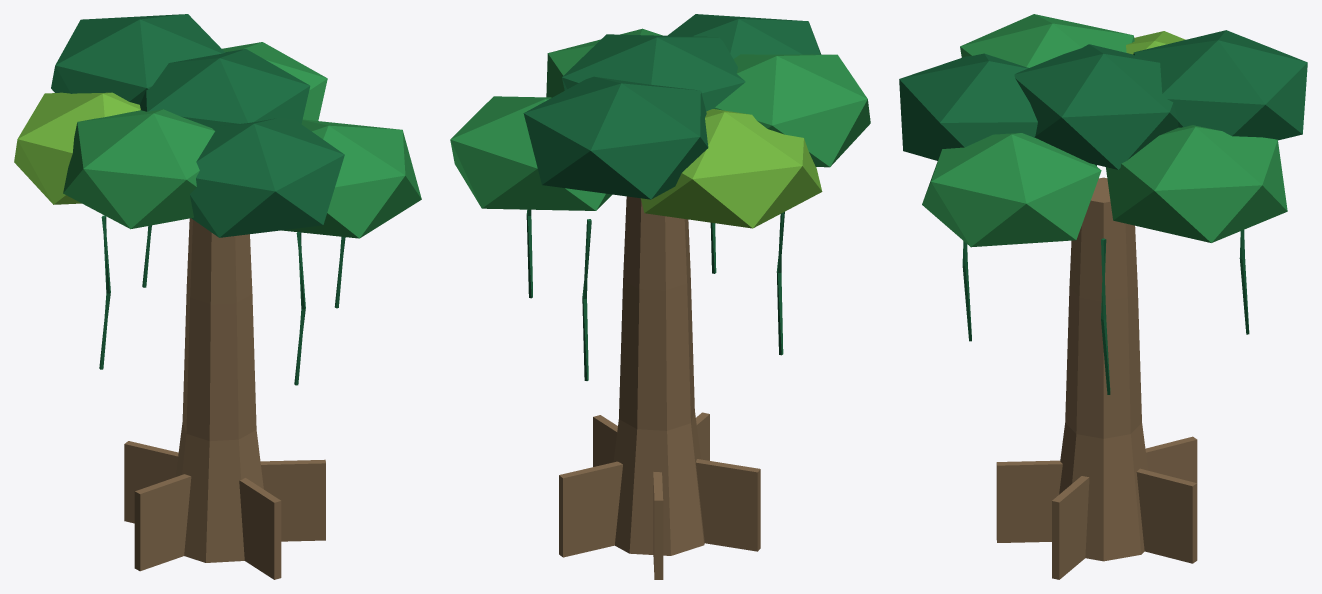
The model's file is Bibosi.fbx.
3 renders of one model, left to right at view 1: azimuth 30°, elevation 25°; view 2: azimuth 150°, elevation 25°; view 3: azimuth 270°, elevation 25°, orthographic. The views are drawn at different scales.
Visible parts, largest first — view 1: Bibosi; view 2: Bibosi; view 3: Bibosi.
Boxes of the visible parts, x1,y1,x2,y2 form: Bibosi: [14, 14, 421, 579]; Bibosi: [450, 14, 870, 579]; Bibosi: [899, 14, 1307, 579].
Bounding box in the file's own units: 3.44 × 5.04 × 3.83.
